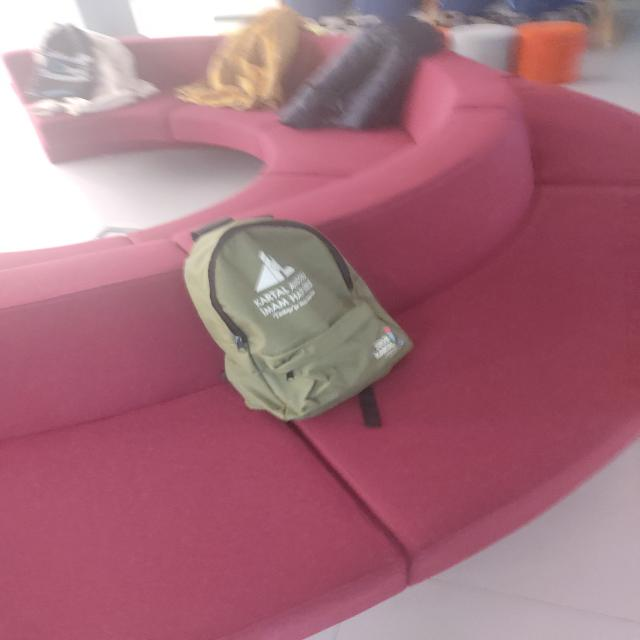bag: (177, 218, 432, 418)
